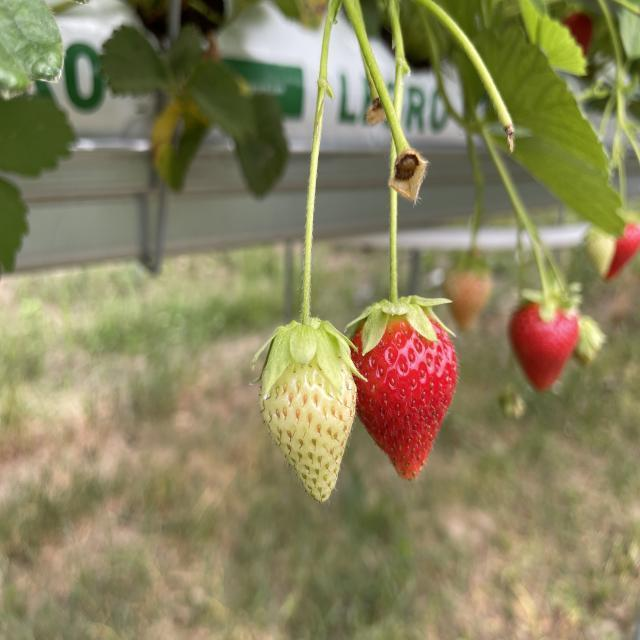stem: (259, 7, 350, 395), (352, 172, 446, 350)
strawberryNR: (260, 364, 353, 500)
strawberryR: (353, 320, 455, 476), (512, 303, 579, 390)
